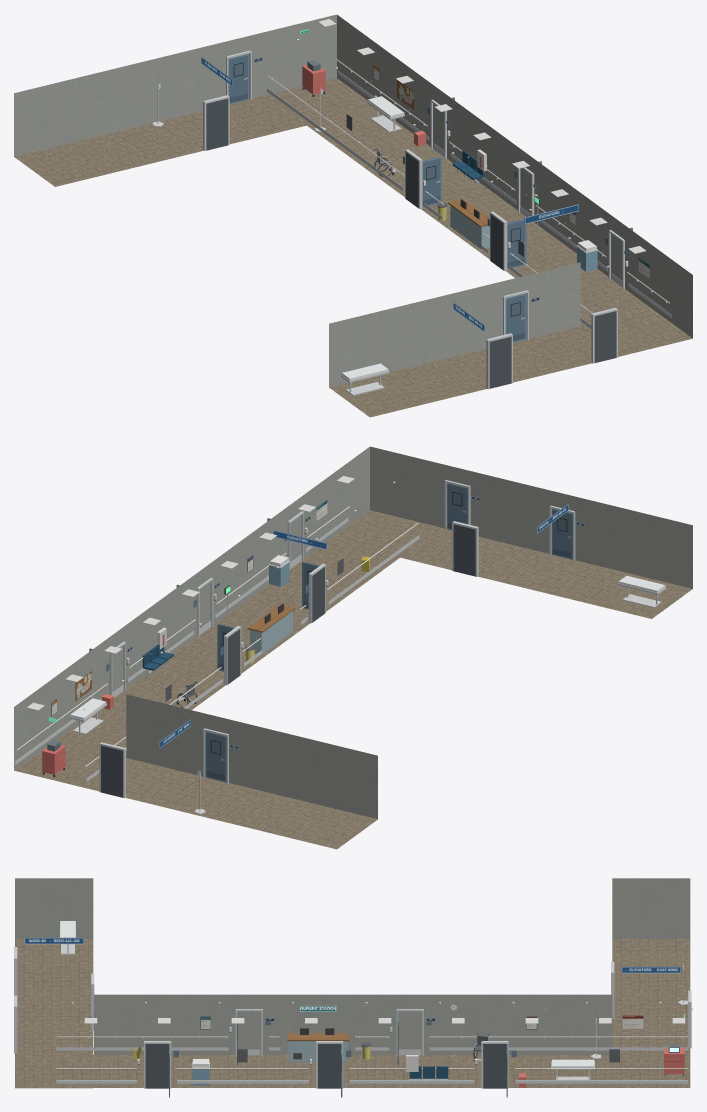
Rendered from hall-baked.glb.
3 renders of one model, top to bottom at view 1: azimuth 30°, elevation 25°; view 2: azimuth 150°, elevation 25°; view 3: azimuth 270°, elevation 25°, orthographic. The views are drawn at different scales.
Visible parts, largest first — view 1: HALL_LIT; view 2: HALL_LIT; view 3: HALL_LIT, other.031, other.007.
Boxes of the visible parts, x1=… form: HALL_LIT: x1=14, y1=14, x2=692, y2=417; HALL_LIT: x1=14, y1=446, x2=692, y2=849; HALL_LIT: x1=14, y1=878, x2=692, y2=1097; other.031: x1=621, y1=966, x2=681, y2=973; other.007: x1=24, y1=937, x2=83, y2=944.
Bounding box in the file's own units: 16.4 × 2.91 × 29.56.
91 materials, 46 textured.
